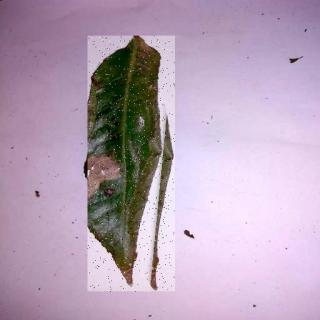Anthracnose: (89, 37, 176, 293)
